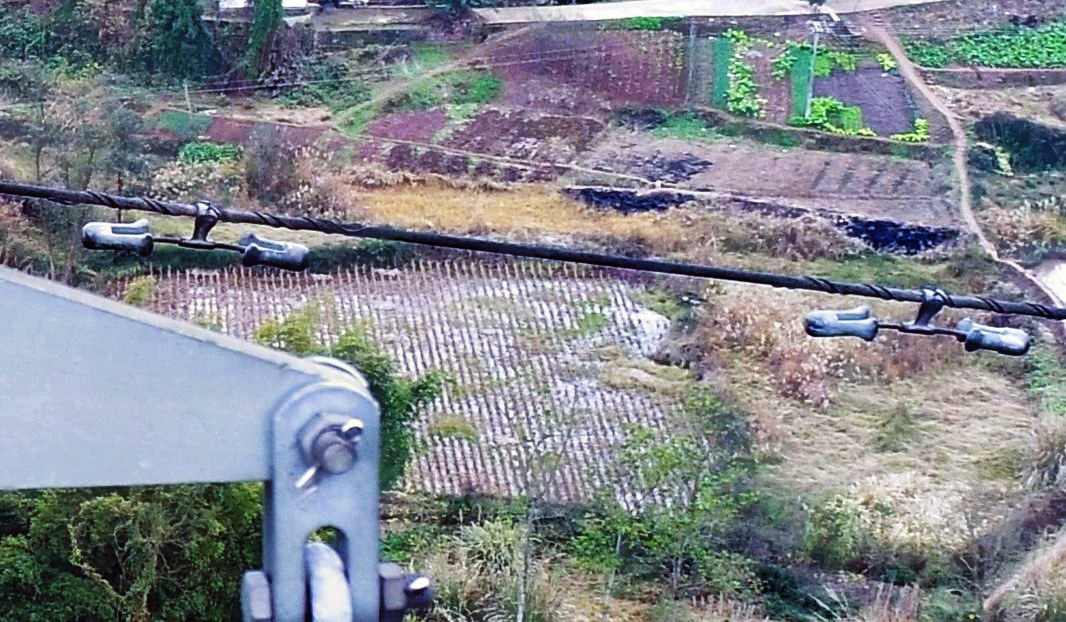Shockproof hammer: (76, 185, 319, 280), (798, 272, 1036, 361)
